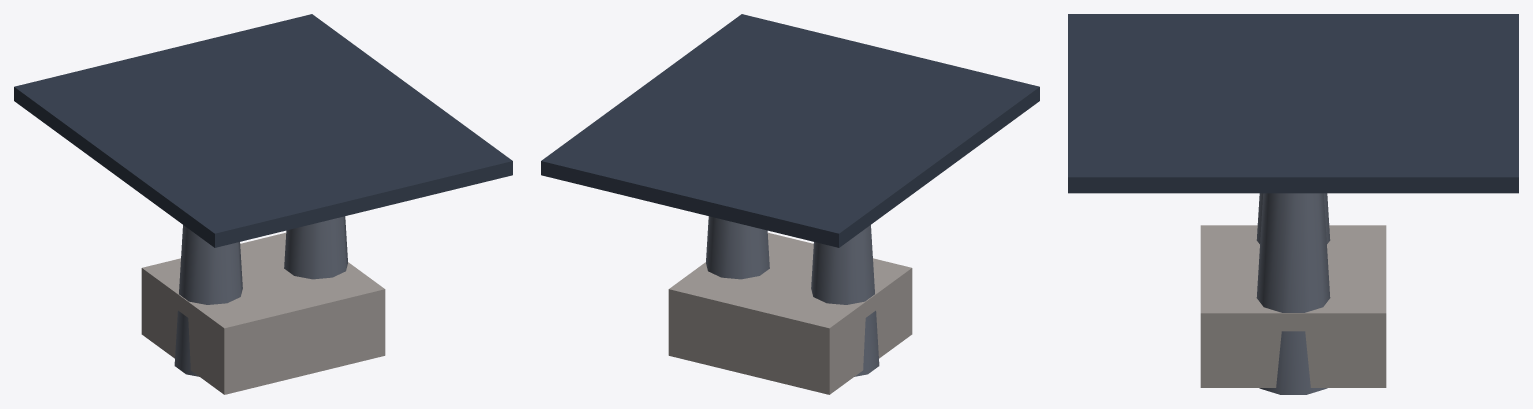
File: tower.glb
3 views of the same model, side by side, from view 1: azimuth 30°, elevation 25°; view 2: azimuth 150°, elevation 25°; view 3: azimuth 270°, elevation 25° (orthographic). The views are drawn at different scales.
Visible parts, largest first — view 1: tower; view 2: tower; view 3: tower.
Part boxes in pixels (box(x1,y1,x2,y2)): tower: box(14, 14, 512, 394); tower: box(541, 14, 1039, 394); tower: box(1068, 14, 1518, 394).
Bounding box in the file's own units: 9.18 × 6.65 × 10.71.
